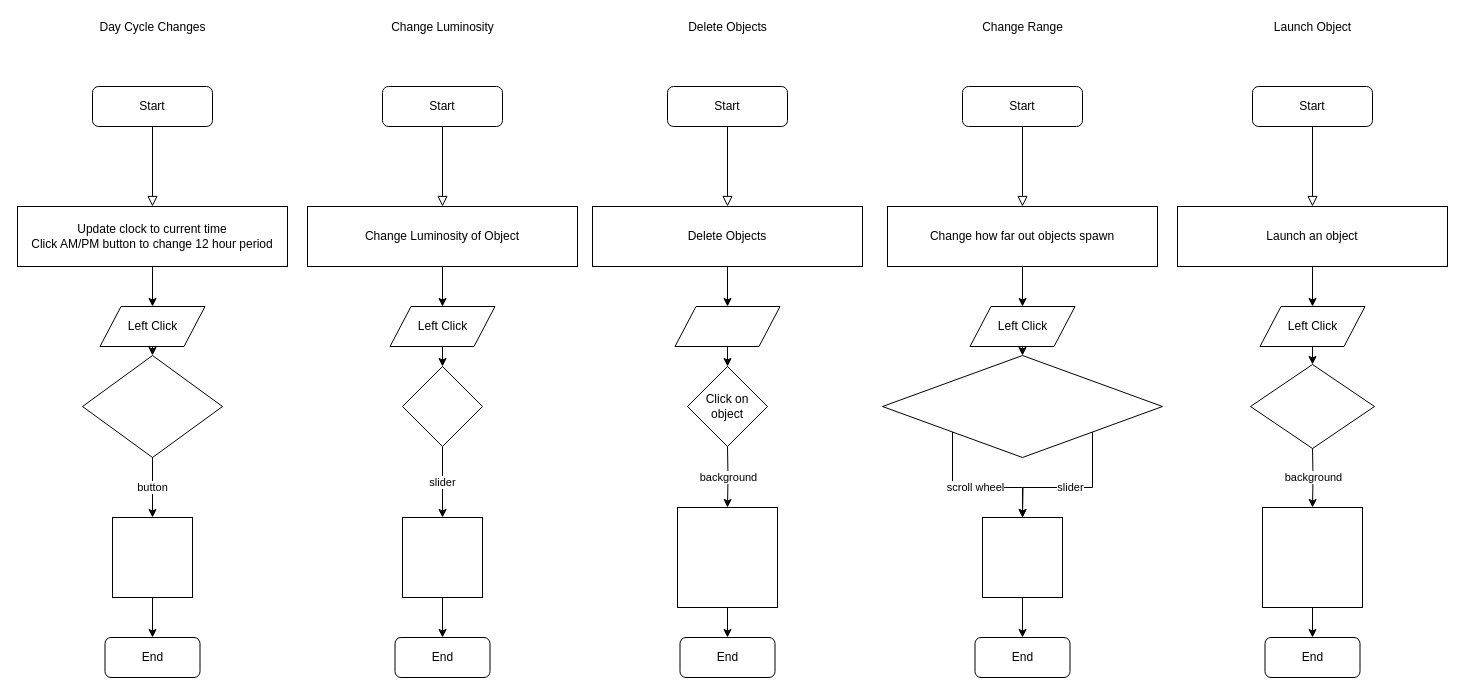
The diagram is 1465 pixels wide and 695 high, and some of its shapes have lost their labels. The box of each missing label's shape, as (x1, y1, x2, y2) in pixels:
Change period (AM/PM) of time: (112, 516, 192, 598)
Changes how far out object will spawn: (982, 516, 1062, 598)
Changes luminosity setting of painted object: (402, 516, 482, 598)
Click background: (1250, 364, 1374, 448)
Deletes object. Plays sound to indicate that you done so.: (676, 506, 778, 608)
Launches the object. Plays sound to indicate that you done so.: (1262, 506, 1362, 608)
Press AM/PM button: (82, 354, 222, 458)
Right Click: (674, 306, 780, 346)
Scroll luminosity Slider: (402, 366, 482, 446)
Scroll Range Slider/ Scroll Mouse wheel: (882, 354, 1162, 458)
